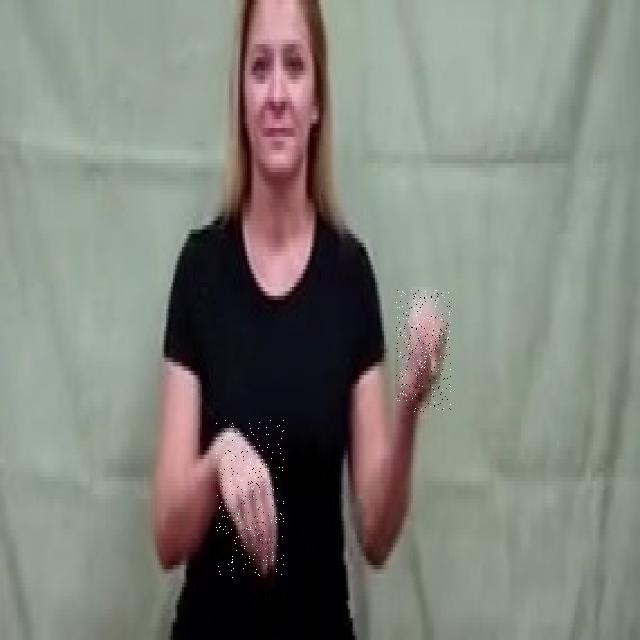ingredients: (217, 421, 284, 578), (396, 290, 451, 412)
